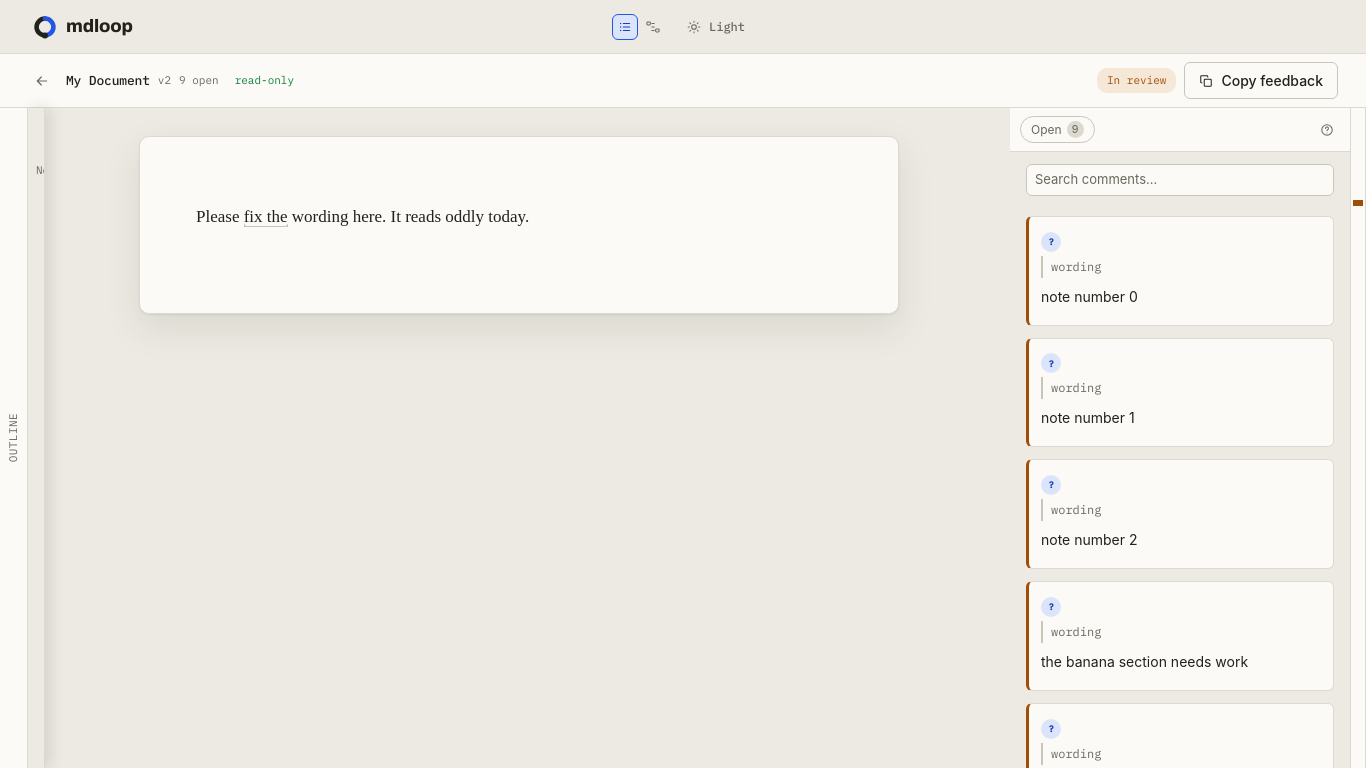
Test: Viewer — in-rail comment search (ADR 0003 §C) › filters the loaded threads client-side as you type
Expected: the text "the banana section needs work" is shown, [1041, 653, 1248, 670]
Expected: the text "note number 1" is shown, [1041, 409, 1135, 426]
Type "banana" into the search field labelled "Search comments" at (1180, 180), box [1026, 164, 1334, 196]
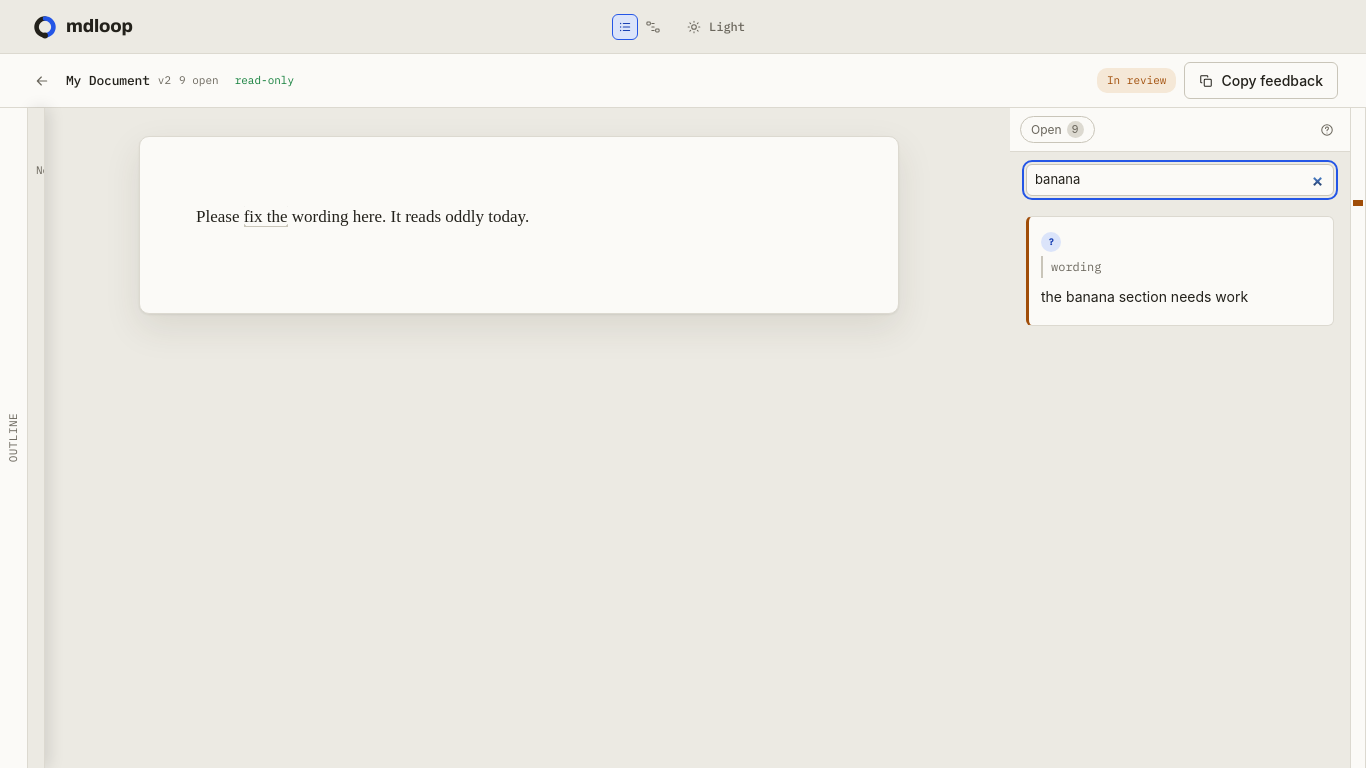
Expected: the text "the banana section needs work" is shown, [1041, 288, 1248, 305]
Expected: the text "note number 1" is gone
